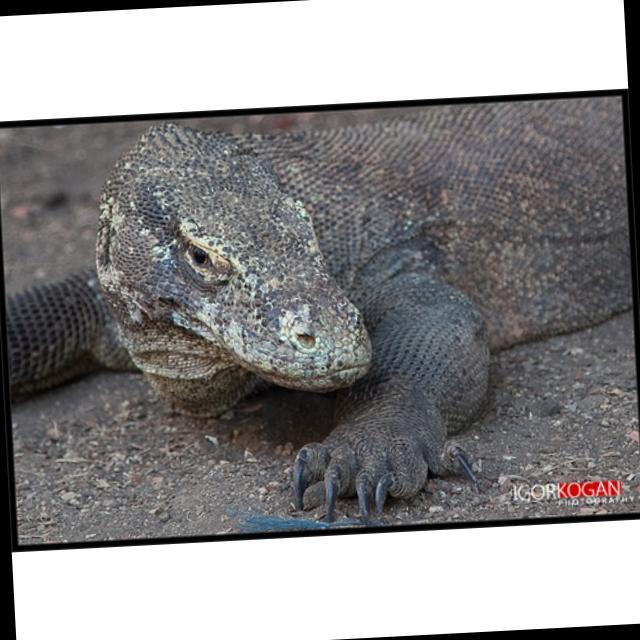KomodoDragon: (0, 96, 634, 537)
